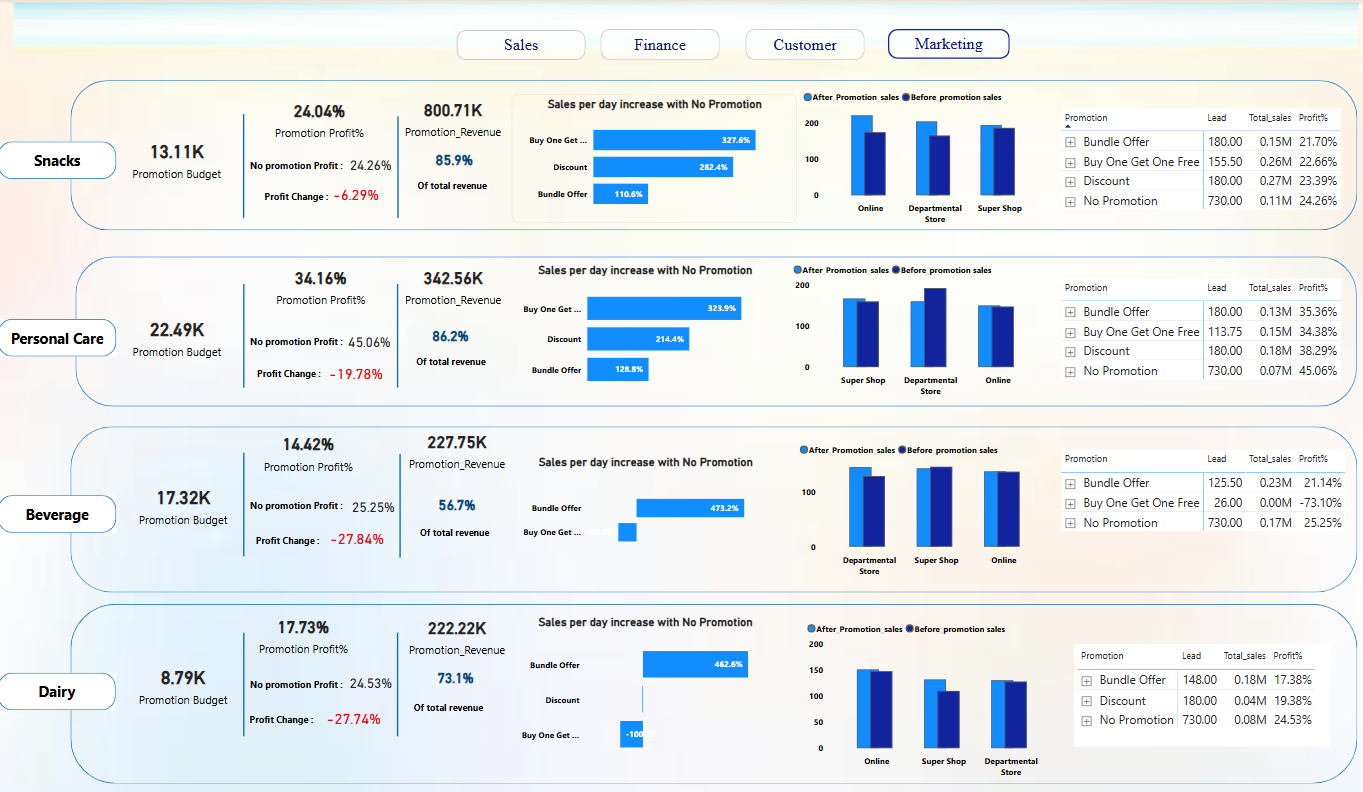

This screenshot's page, from the dashboard's own definition file:
{"tool":"powerbi","page":{"name":"Marketing","canvas":[2000,1200],"ordinal":4},"visuals":[{"type":"shape","box":[106.7,626.7,1886.7,243.3],"z":0},{"type":"shape","box":[106.7,886.7,1886.7,263.3],"z":1000},{"type":"shape","box":[113.6,377.5,1878.4,219.9],"z":2000},{"type":"shape","box":[106.7,118.3,1886.7,220],"z":3000},{"type":"image","box":[17.9,0,1982.2,85.3],"z":4000},{"type":"shape","box":[529.8,45.6,188.5,43.7],"z":5000},{"type":"shape","box":[754,45.6,174.6,45.6],"z":6000},{"type":"shape","box":[962.3,43.7,174.6,45.6],"z":7000},{"type":"shape","box":[1160.7,43.7,178.6,43.7],"z":8000},{"type":"clusteredBarChart","title":" Sales per day increase with No Promotion","fields":{"Category":["Fact_Sales.Promotion_Type"],"Y":["_Measure_.Measure"]},"box":[752.8,138.6,417.6,189.1],"z":9000},{"type":"clusteredColumnChart","fields":{"Y":["_Measure_.After_Promotion_sales","_Measure_.Before_promotion sales"],"Category":["Fact_Sales.Sales_Channel"]},"box":[1176.6,125,363.1,214.3],"z":10000},{"type":"clusteredBarChart","title":" Sales per day increase with No Promotion","fields":{"Category":["Fact_Sales.Promotion_Type"],"Y":["_Measure_.Measure_persona"]},"box":[753.3,386.7,391.7,198.3],"z":11000},{"type":"clusteredBarChart","title":" Sales per day increase with No Promotion","fields":{"Category":["Fact_Sales.Promotion_Type"],"Y":["_Measure_.Measure_Beve"]},"box":[753.3,668.3,393.3,165],"z":12000},{"type":"clusteredBarChart","title":" Sales per day increase with No Promotion","fields":{"Category":["Fact_Sales.Promotion_Type"],"Y":["_Measure_.Measure_Dairy"]},"box":[748.3,903.3,403.3,221.7],"z":13000},{"type":"clusteredColumnChart","fields":{"Y":["_Measure_.After_Promotion_sales","_Measure_.Before_promotion sales"],"Category":["Fact_Sales.Sales_Channel"]},"box":[1161.7,376.7,378.3,213.3],"z":14000},{"type":"clusteredColumnChart","fields":{"Y":["_Measure_.After_Promotion_sales","_Measure_.Before_promotion sales"],"Category":["Fact_Sales.Sales_Channel"]},"box":[1171.1,641.4,377.5,212.6],"z":15000},{"type":"clusteredColumnChart","fields":{"Y":["_Measure_.After_Promotion_sales","_Measure_.Before_promotion sales"],"Category":["Fact_Sales.Sales_Channel"]},"box":[1182.5,902.8,377,246],"z":16000},{"type":"pivotTable","fields":{"Rows":["Dim_Promotions.Promotion_Type","Dim_Promotions.Promotion_ID"],"Values":["Avg(Dim_Promotions.Lead)","_Measure_.Total_sales","_Measure_.Profit%"]},"box":[1554.1,155.8,423.3,161.3],"z":17000},{"type":"pivotTable","fields":{"Rows":["Dim_Promotions.Promotion_Type","Dim_Promotions.Promotion_ID"],"Values":["Avg(Dim_Promotions.Lead)","_Measure_.Total_sales","_Measure_.Profit%"]},"box":[1554.1,405,423.3,194.3],"z":18000},{"type":"pivotTable","fields":{"Rows":["Dim_Promotions.Promotion_Type","Dim_Promotions.Promotion_ID"],"Values":["Avg(Dim_Promotions.Lead)","_Measure_.Total_sales","_Measure_.Profit%"]},"box":[1554.1,656.1,439.8,183.3],"z":19000},{"type":"pivotTable","fields":{"Rows":["Dim_Promotions.Promotion_Type","Dim_Promotions.Promotion_ID"],"Values":["Avg(Dim_Promotions.Lead)","_Measure_.Total_sales","_Measure_.Profit%"]},"box":[1577.5,945,375,150],"z":20000},{"type":"card","title":"Promotion Budget","fields":{"Values":["Sum(Dim_Promotions.Budget)"]},"box":[174.1,157.6,175.9,150.3],"z":21000},{"type":"card","fields":{"Values":["_Measure_.Total_sales"]},"box":[569.9,97.1,194.3,152.1],"z":22000},{"type":"shape","box":[262.1,168.6,196.1,152.1],"z":23000},{"type":"shape","box":[489.3,172.3,194.3,148.4],"z":24000},{"type":"card","fields":{"Values":["_Measure_.Profit%"]},"box":[374.5,101.1,194.8,147.9],"z":25000},{"type":"shape","box":[0,208.3,173.3,55],"z":26000},{"type":"card","fields":{"Values":["_Measure_.Profit%"]},"box":[390,190,311.7,108.3],"z":27000},{"type":"shape","box":[350,145,175,196.7],"z":28000},{"type":"card","fields":{"Values":["_Measure_.Profit_change"]},"box":[406.7,186.7,236.7,200],"z":29000},{"type":"shape","box":[350,188.3,175,200],"z":30000},{"type":"card","fields":{"Values":["_Measure_.Promotion_revenue"]},"box":[595,138.3,146.7,196.7],"z":31000},{"type":"shape","box":[590,175,151.7,196.7],"z":32000},{"type":"shape","box":[0,468.3,173.3,55],"z":33000},{"type":"card","title":"Promotion Budget","fields":{"Values":["Sum(Dim_Promotions.Budget)"]},"box":[173.3,420,176.7,150],"z":34000},{"type":"shape","box":[261.7,418.3,196.7,151.7],"z":35000},{"type":"card","fields":{"Values":["_Measure_.Profit%"]},"box":[375,346.7,195,146.7],"z":36000},{"type":"card","fields":{"Values":["_Measure_.Profit%"]},"box":[388.3,448.3,311.7,108.3],"z":37000},{"type":"shape","box":[350,403.3,175,196.7],"z":38000},{"type":"card","fields":{"Values":["_Measure_.Profit_change"]},"box":[416.7,448.3,218.3,200],"z":39000},{"type":"shape","box":[338.3,448.3,175,200],"z":40000},{"type":"shape","box":[488.3,418.3,196.7,151.7],"z":41000},{"type":"card","fields":{"Values":["_Measure_.Total_sales"]},"box":[570,343.3,195,153.3],"z":42000},{"type":"card","fields":{"Values":["_Measure_.Promotion_revenue"]},"box":[590,395,146.7,196.7],"z":43000},{"type":"shape","box":[588.3,495,151.7,71.7],"z":44000},{"type":"card","title":"Promotion Budget","fields":{"Values":["Sum(Dim_Promotions.Budget)"]},"box":[183.3,665,176.7,150],"z":45000},{"type":"shape","box":[0,728.3,173.3,55],"z":46000},{"type":"card","fields":{"Values":["_Measure_.Profit%"]},"box":[356.7,590,195,146.7],"z":47000},{"type":"card","fields":{"Values":["_Measure_.Profit%"]},"box":[471.7,706.7,158.3,76.7],"z":48000},{"type":"card","fields":{"Values":["_Measure_.Profit_change"]},"box":[478.3,750,96.7,83.3],"z":49000},{"type":"shape","box":[261.7,665,196.7,151.7],"z":50000},{"type":"shape","box":[336.7,753.3,175,80],"z":51000},{"type":"shape","box":[350,706.7,175,70],"z":52000},{"type":"shape","box":[491.7,666.7,196.7,151.7],"z":53000},{"type":"card","fields":{"Values":["_Measure_.Total_sales"]},"box":[575,583.3,195,153.3],"z":54000},{"type":"card","fields":{"Values":["_Measure_.Promotion_revenue"]},"box":[600,643.3,146.7,196.7],"z":55000},{"type":"shape","box":[593.3,745,151.7,71.7],"z":56000},{"type":"card","title":"Promotion Budget","fields":{"Values":["Sum(Dim_Promotions.Budget)"]},"box":[183.3,930,176.7,150],"z":57000},{"type":"card","fields":{"Values":["_Measure_.Profit%"]},"box":[350,858.3,195,146.7],"z":58000},{"type":"shape","box":[261.7,928.3,196.7,151.7],"z":59000},{"type":"card","fields":{"Values":["_Measure_.Profit_change"]},"box":[443.3,1008.3,156.7,93.3],"z":60000},{"type":"card","fields":{"Values":["_Measure_.Profit%"]},"box":[466.7,966.7,158.3,76.7],"z":61000},{"type":"shape","box":[328.3,1015,175,80],"z":62000},{"type":"shape","box":[350,970,175,70],"z":63000},{"type":"shape","box":[488.3,928.3,196.7,151.7],"z":64000},{"type":"card","fields":{"Values":["_Measure_.Total_sales"]},"box":[575,855,195,153.3],"z":65000},{"type":"card","fields":{"Values":["_Measure_.Promotion_revenue"]},"box":[596.7,898.3,146.7,196.7],"z":66000},{"type":"shape","box":[585,1003.3,151.7,71.7],"z":67000},{"type":"shape","box":[0,987.5,172.5,55],"z":68000},{"type":"shape","box":[1375,45.6,178.6,43.7],"z":69000}]}

Visuals, with their boxes on the page's 2000x1200 design canvas (x1, y1, x2, y2). These are canvas units, not pixel positions in the 1363x792 screenshot, which may show the page scaled, cropped or inside an application window:
shape: (left=107, top=627, right=1993, bottom=870)
shape: (left=107, top=887, right=1993, bottom=1150)
shape: (left=114, top=378, right=1992, bottom=597)
shape: (left=107, top=118, right=1993, bottom=338)
image: (left=18, top=0, right=2000, bottom=85)
shape: (left=530, top=46, right=718, bottom=89)
shape: (left=754, top=46, right=929, bottom=91)
shape: (left=962, top=44, right=1137, bottom=89)
shape: (left=1161, top=44, right=1339, bottom=87)
" Sales per day increase with No Promotion" clusteredBarChart: (left=753, top=139, right=1170, bottom=328)
clusteredColumnChart - _Measure_.After_Promotion_sales x _Measure_.Before_promotion sales: (left=1177, top=125, right=1540, bottom=339)
" Sales per day increase with No Promotion" clusteredBarChart: (left=753, top=387, right=1145, bottom=585)
" Sales per day increase with No Promotion" clusteredBarChart: (left=753, top=668, right=1147, bottom=833)
" Sales per day increase with No Promotion" clusteredBarChart: (left=748, top=903, right=1152, bottom=1125)
clusteredColumnChart - _Measure_.After_Promotion_sales x _Measure_.Before_promotion sales: (left=1162, top=377, right=1540, bottom=590)
clusteredColumnChart - _Measure_.After_Promotion_sales x _Measure_.Before_promotion sales: (left=1171, top=641, right=1549, bottom=854)
clusteredColumnChart - _Measure_.After_Promotion_sales x _Measure_.Before_promotion sales: (left=1182, top=903, right=1560, bottom=1149)
pivotTable - Dim_Promotions.Promotion_Type x Dim_Promotions.Promotion_ID: (left=1554, top=156, right=1977, bottom=317)
pivotTable - Dim_Promotions.Promotion_Type x Dim_Promotions.Promotion_ID: (left=1554, top=405, right=1977, bottom=599)
pivotTable - Dim_Promotions.Promotion_Type x Dim_Promotions.Promotion_ID: (left=1554, top=656, right=1994, bottom=839)
pivotTable - Dim_Promotions.Promotion_Type x Dim_Promotions.Promotion_ID: (left=1578, top=945, right=1952, bottom=1095)
"Promotion Budget" card: (left=174, top=158, right=350, bottom=308)
card - _Measure_.Total_sales: (left=570, top=97, right=764, bottom=249)
shape: (left=262, top=169, right=458, bottom=321)
shape: (left=489, top=172, right=684, bottom=321)
card - _Measure_.Profit%: (left=374, top=101, right=569, bottom=249)
shape: (left=0, top=208, right=173, bottom=263)
card - _Measure_.Profit%: (left=390, top=190, right=702, bottom=298)
shape: (left=350, top=145, right=525, bottom=342)
card - _Measure_.Profit_change: (left=407, top=187, right=643, bottom=387)
shape: (left=350, top=188, right=525, bottom=388)
card - _Measure_.Promotion_revenue: (left=595, top=138, right=742, bottom=335)
shape: (left=590, top=175, right=742, bottom=372)
shape: (left=0, top=468, right=173, bottom=523)
"Promotion Budget" card: (left=173, top=420, right=350, bottom=570)
shape: (left=262, top=418, right=458, bottom=570)
card - _Measure_.Profit%: (left=375, top=347, right=570, bottom=493)
card - _Measure_.Profit%: (left=388, top=448, right=700, bottom=557)
shape: (left=350, top=403, right=525, bottom=600)
card - _Measure_.Profit_change: (left=417, top=448, right=635, bottom=648)
shape: (left=338, top=448, right=513, bottom=648)
shape: (left=488, top=418, right=685, bottom=570)
card - _Measure_.Total_sales: (left=570, top=343, right=765, bottom=497)
card - _Measure_.Promotion_revenue: (left=590, top=395, right=737, bottom=592)
shape: (left=588, top=495, right=740, bottom=567)
"Promotion Budget" card: (left=183, top=665, right=360, bottom=815)
shape: (left=0, top=728, right=173, bottom=783)
card - _Measure_.Profit%: (left=357, top=590, right=552, bottom=737)
card - _Measure_.Profit%: (left=472, top=707, right=630, bottom=783)
card - _Measure_.Profit_change: (left=478, top=750, right=575, bottom=833)
shape: (left=262, top=665, right=458, bottom=817)
shape: (left=337, top=753, right=512, bottom=833)
shape: (left=350, top=707, right=525, bottom=777)
shape: (left=492, top=667, right=688, bottom=818)
card - _Measure_.Total_sales: (left=575, top=583, right=770, bottom=737)
card - _Measure_.Promotion_revenue: (left=600, top=643, right=747, bottom=840)
shape: (left=593, top=745, right=745, bottom=817)
"Promotion Budget" card: (left=183, top=930, right=360, bottom=1080)
card - _Measure_.Profit%: (left=350, top=858, right=545, bottom=1005)
shape: (left=262, top=928, right=458, bottom=1080)
card - _Measure_.Profit_change: (left=443, top=1008, right=600, bottom=1102)
card - _Measure_.Profit%: (left=467, top=967, right=625, bottom=1043)
shape: (left=328, top=1015, right=503, bottom=1095)
shape: (left=350, top=970, right=525, bottom=1040)
shape: (left=488, top=928, right=685, bottom=1080)
card - _Measure_.Total_sales: (left=575, top=855, right=770, bottom=1008)
card - _Measure_.Promotion_revenue: (left=597, top=898, right=743, bottom=1095)
shape: (left=585, top=1003, right=737, bottom=1075)
shape: (left=0, top=988, right=172, bottom=1042)
shape: (left=1375, top=46, right=1554, bottom=89)
